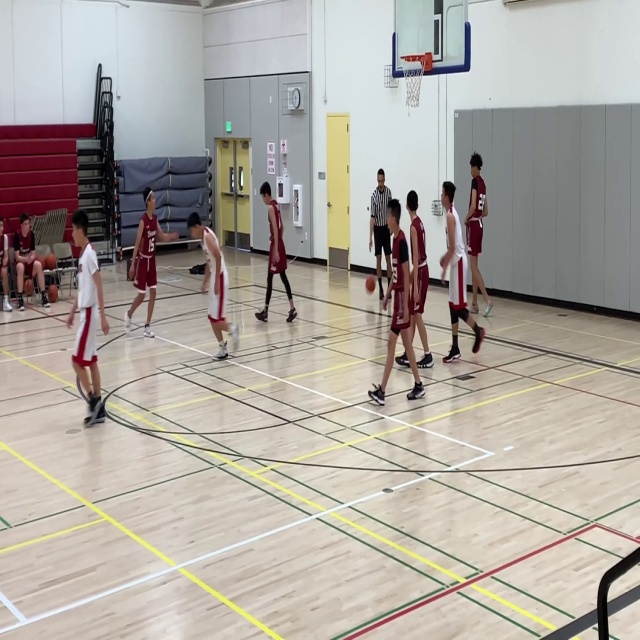Basketball: (44, 253, 56, 270), (47, 284, 58, 302), (23, 279, 34, 296), (365, 276, 376, 292)
